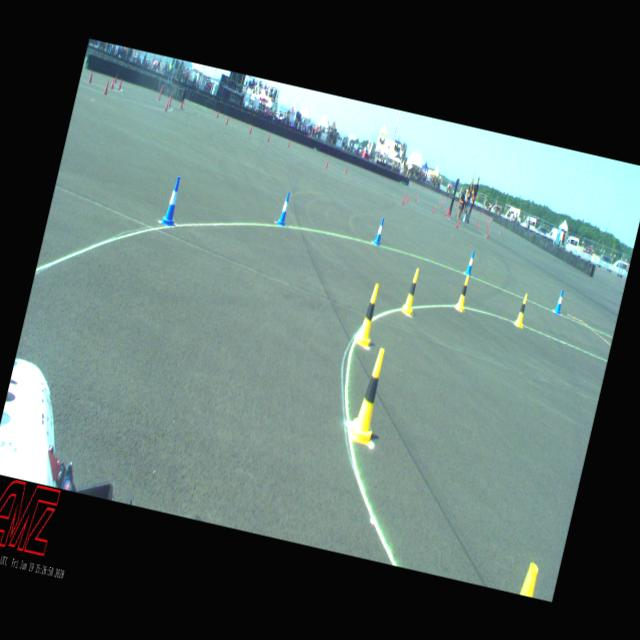blue_cone: (158, 174, 186, 228), (275, 190, 293, 226), (372, 217, 386, 246), (553, 288, 565, 314), (464, 250, 476, 276)
unknown_cone: (103, 80, 110, 94), (163, 98, 170, 111), (88, 70, 94, 83), (110, 76, 115, 90), (116, 80, 122, 90), (455, 216, 460, 228), (157, 90, 162, 101), (401, 193, 406, 204), (114, 72, 118, 83), (248, 124, 252, 134), (168, 97, 172, 106), (224, 115, 228, 124), (324, 159, 328, 168), (432, 204, 436, 213), (446, 210, 450, 219), (486, 228, 490, 237), (215, 110, 219, 118), (266, 133, 270, 141), (405, 194, 409, 202), (180, 99, 183, 108)
yellow_cone: (346, 346, 392, 442), (354, 281, 382, 345), (399, 266, 422, 316), (454, 273, 471, 312), (513, 292, 529, 328)
